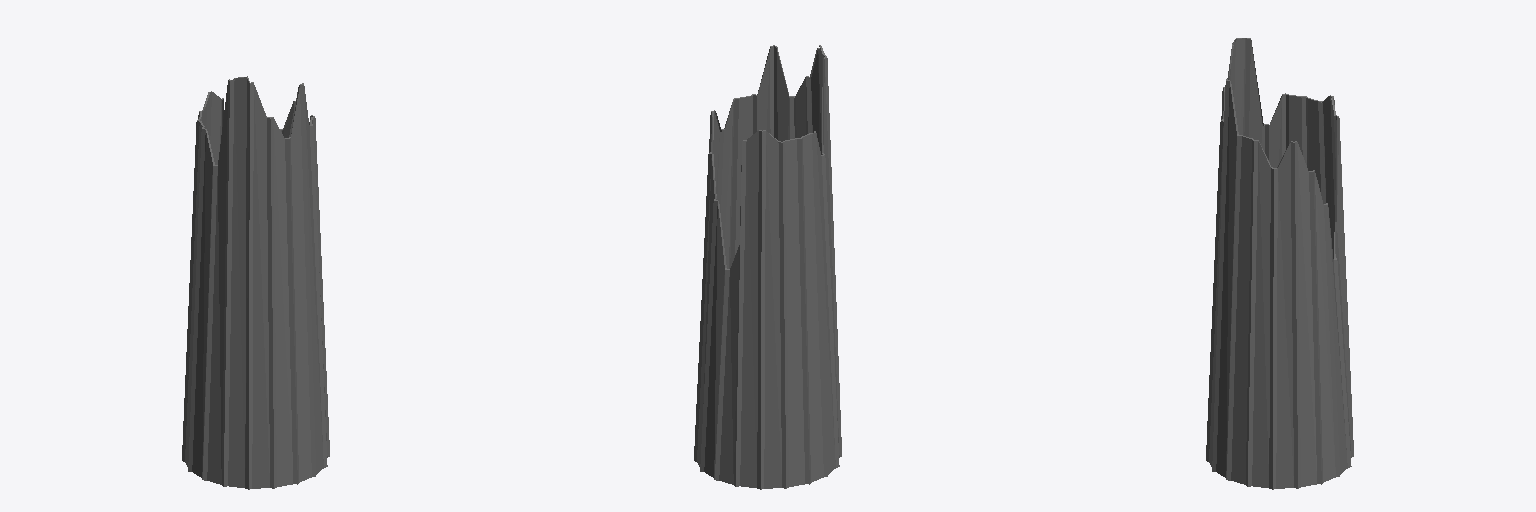
Rendered from ColumnHalf.obj.
The picture shows the model from 3 angles: view 1: azimuth 30°, elevation 25°; view 2: azimuth 150°, elevation 25°; view 3: azimuth 270°, elevation 25°; orthographic projection.
Parts seen in each view (by area): view 1: OldColumn03; view 2: OldColumn03; view 3: OldColumn03.
Part boxes in pixels (x1,y1,x2,y2): OldColumn03: (182, 76, 329, 489); OldColumn03: (694, 45, 841, 489); OldColumn03: (1206, 38, 1353, 489).
Bounding box in the file's own units: 41.7 × 126 × 41.8.